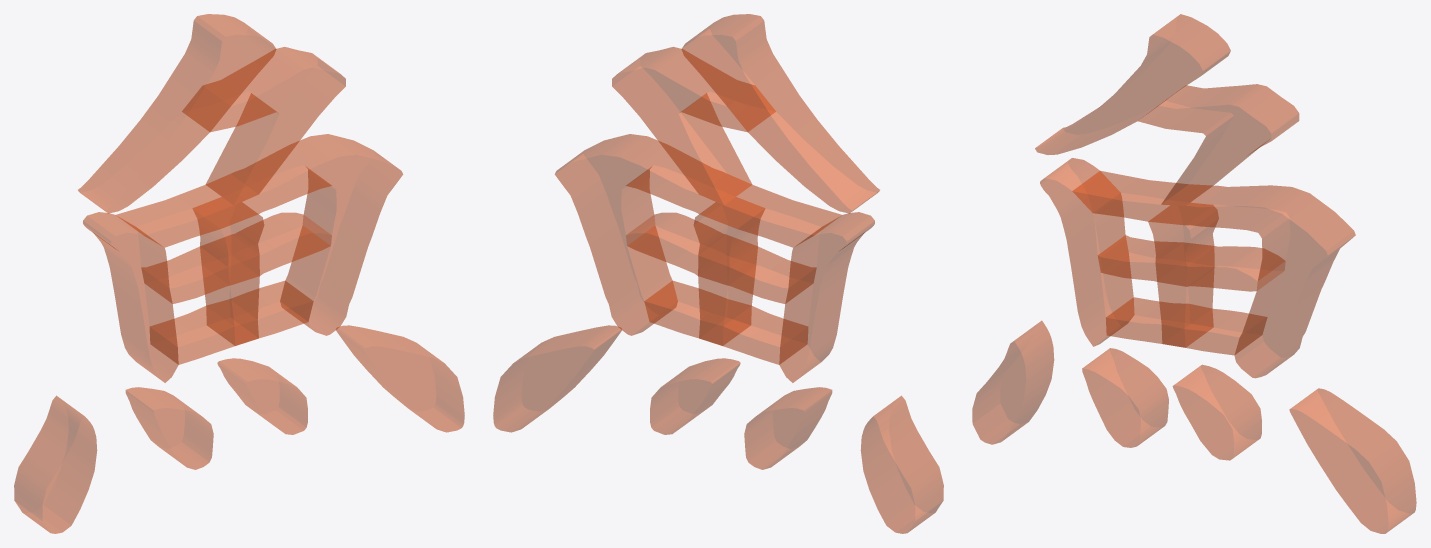
File: fish_seperated_character.fbx
3 views of the same model, side by side, from view 1: azimuth 30°, elevation 25°; view 2: azimuth 150°, elevation 25°; view 3: azimuth 330°, elevation 25° (orthographic).
Visible parts, largest first — view 1: fish_d, fish_a, fish_b, fish_c, fish_e, fish_f, fish_h, fish_g, fish_k, fish_i, fish_j; view 2: fish_d, fish_a, fish_b, fish_c, fish_e, fish_f, fish_h, fish_g, fish_k, fish_i, fish_j; view 3: fish_d, fish_c, fish_k, fish_b, fish_a, fish_f, fish_e, fish_g, fish_h, fish_i, fish_j.
Part boxes in pixels (x1,y1,x2,y2): fish_d: (116,134,402,335); fish_a: (78,14,276,213); fish_b: (182,47,345,204); fish_c: (83,212,178,382); fish_e: (141,212,331,303); fish_f: (193,197,264,345); fish_h: (14,395,97,533); fish_g: (150,281,313,364); fish_k: (336,325,464,432); fish_i: (125,387,213,469); fish_j: (217,358,307,434); fish_d: (555,134,841,335); fish_a: (681,14,879,213); fish_b: (612,47,775,204); fish_c: (779,212,874,382); fish_e: (626,212,816,303); fish_f: (693,197,764,345); fish_h: (860,395,943,533); fish_g: (644,281,807,364); fish_k: (493,325,621,432); fish_i: (744,387,832,469); fish_j: (650,358,740,434); fish_d: (1072,171,1355,378); fish_c: (1040,158,1134,346); fish_k: (1289,388,1416,533); fish_b: (1138,84,1299,205); fish_a: (1035,14,1230,154); fish_f: (1148,203,1218,347); fish_e: (1098,235,1284,291); fish_g: (1106,297,1267,355); fish_h: (972,320,1054,444); fish_i: (1082,348,1168,447); fish_j: (1172,364,1261,460).
Bounding box in the file's own units: 1.38 × 1.42 × 0.1602.
